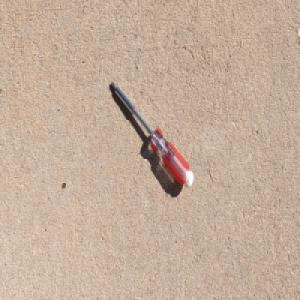Screwdriver: (110, 79, 194, 189)
